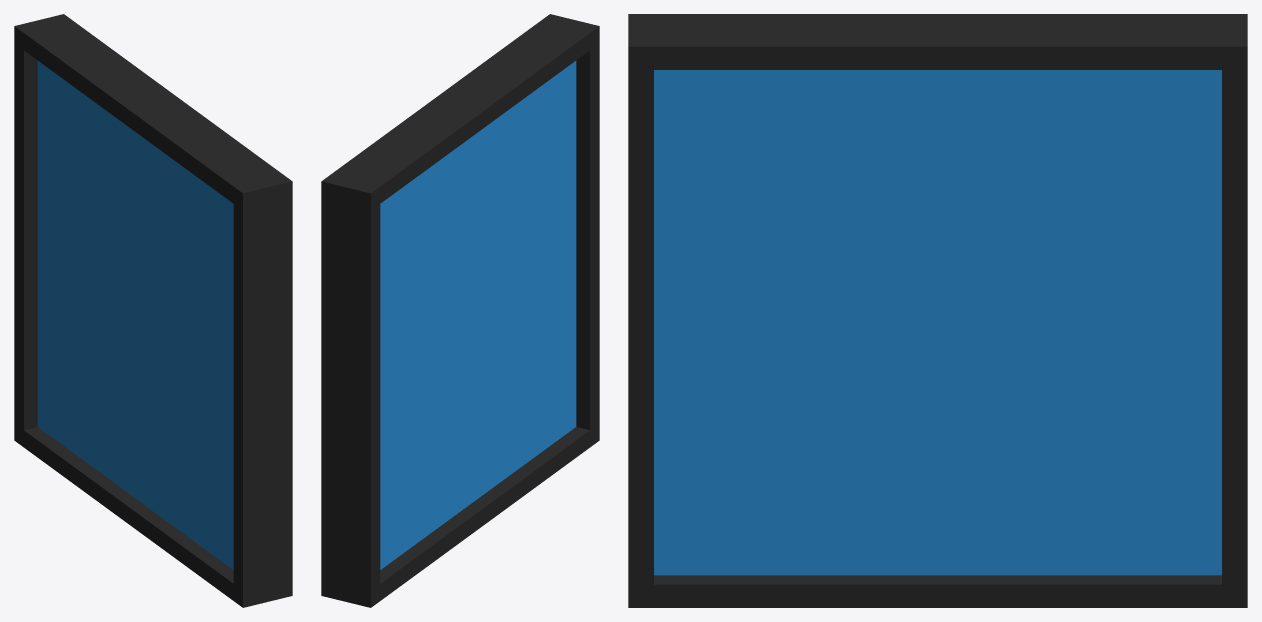
The model's file is GlassWall.glb.
The picture shows the model from 3 angles, left to right: view 1: azimuth 30°, elevation 25°; view 2: azimuth 150°, elevation 25°; view 3: azimuth 270°, elevation 25°; orthographic projection. The views are drawn at different scales.
Visible parts, largest first — view 1: GlassWall-col; view 2: GlassWall-col; view 3: GlassWall-col.
Part boxes in pixels (x1,y1,x2,y2): GlassWall-col: (14,14,292,607); GlassWall-col: (321,14,599,607); GlassWall-col: (628,14,1247,607).
Size of the model in its own units: 0.3 by 2.4 by 2.4.
